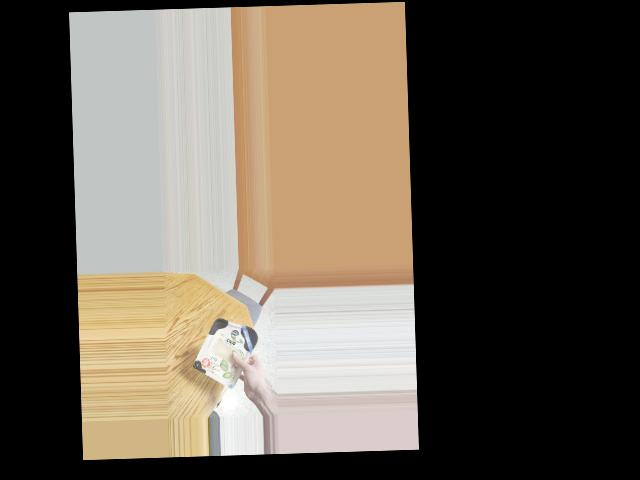cheese: (195, 318, 258, 381)
